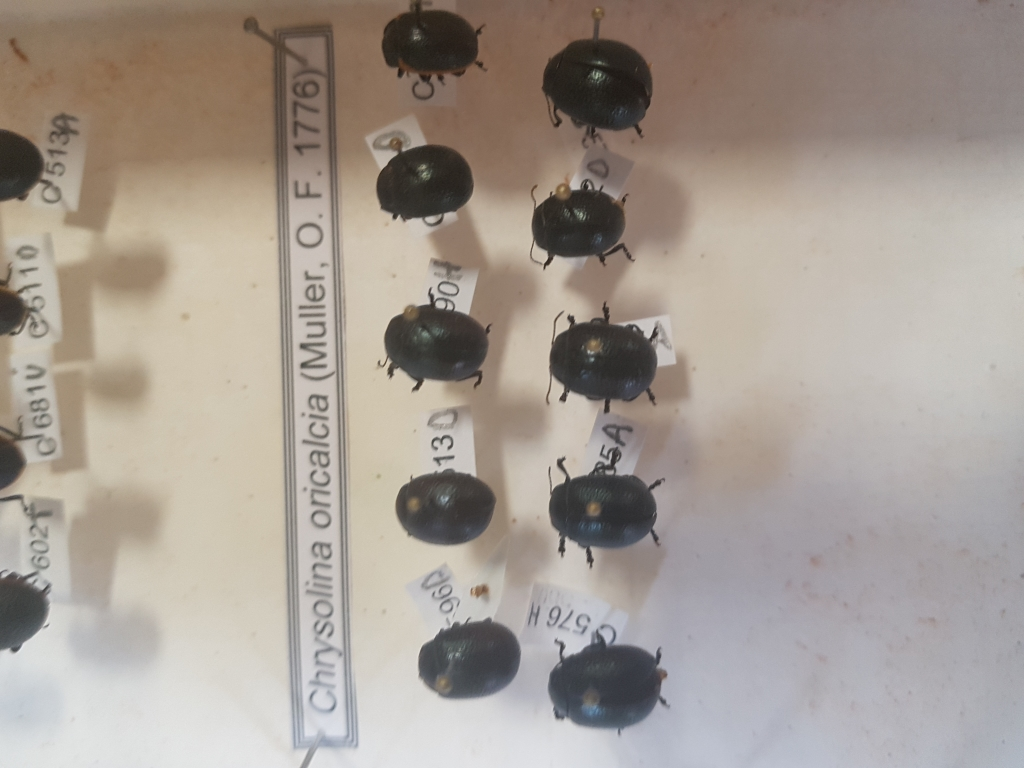Chrysolina_oricalcia: (543, 301, 665, 417), (541, 456, 669, 565), (543, 630, 673, 735), (377, 287, 497, 392), (542, 37, 658, 143), (523, 180, 640, 276), (414, 614, 525, 701), (381, 7, 493, 82), (391, 470, 496, 547), (372, 143, 477, 218)
